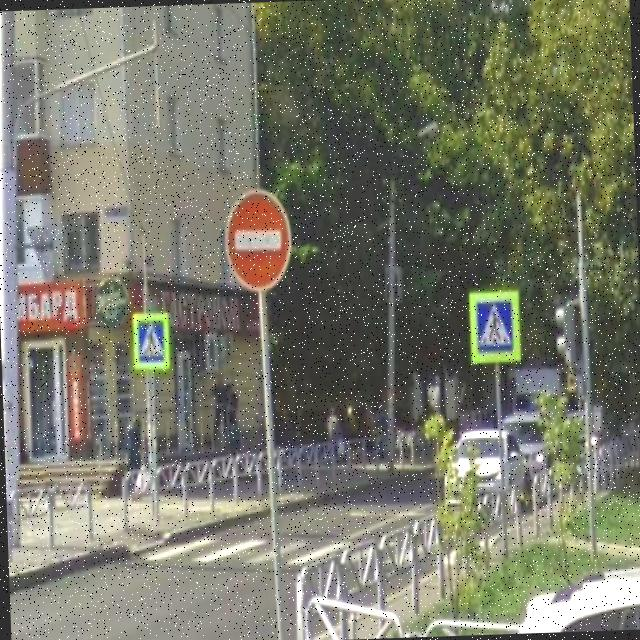Przejscie dla pieszych: (468, 292, 520, 364), (129, 310, 171, 372)
Zakaz wjazdu: (220, 184, 294, 294)
